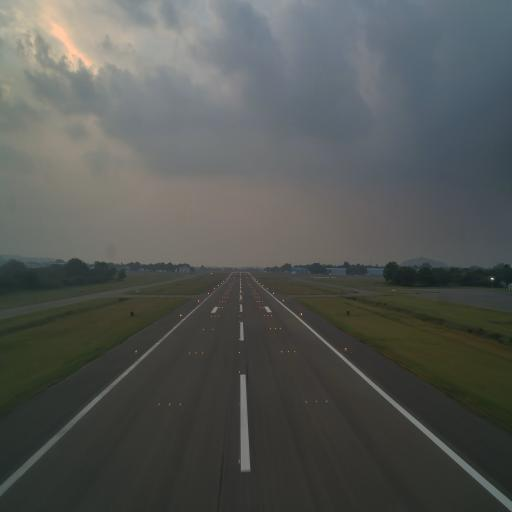off: (237, 400, 242, 409)
on: (324, 397, 329, 407), (279, 348, 284, 357), (194, 348, 198, 358), (343, 346, 348, 354), (237, 457, 241, 466), (304, 398, 308, 407), (168, 400, 172, 408), (178, 400, 182, 408), (314, 399, 318, 407), (238, 370, 242, 377), (134, 348, 138, 355), (188, 348, 191, 356), (201, 349, 204, 357), (287, 348, 290, 356), (158, 399, 160, 410), (238, 350, 242, 355), (293, 349, 296, 355)
